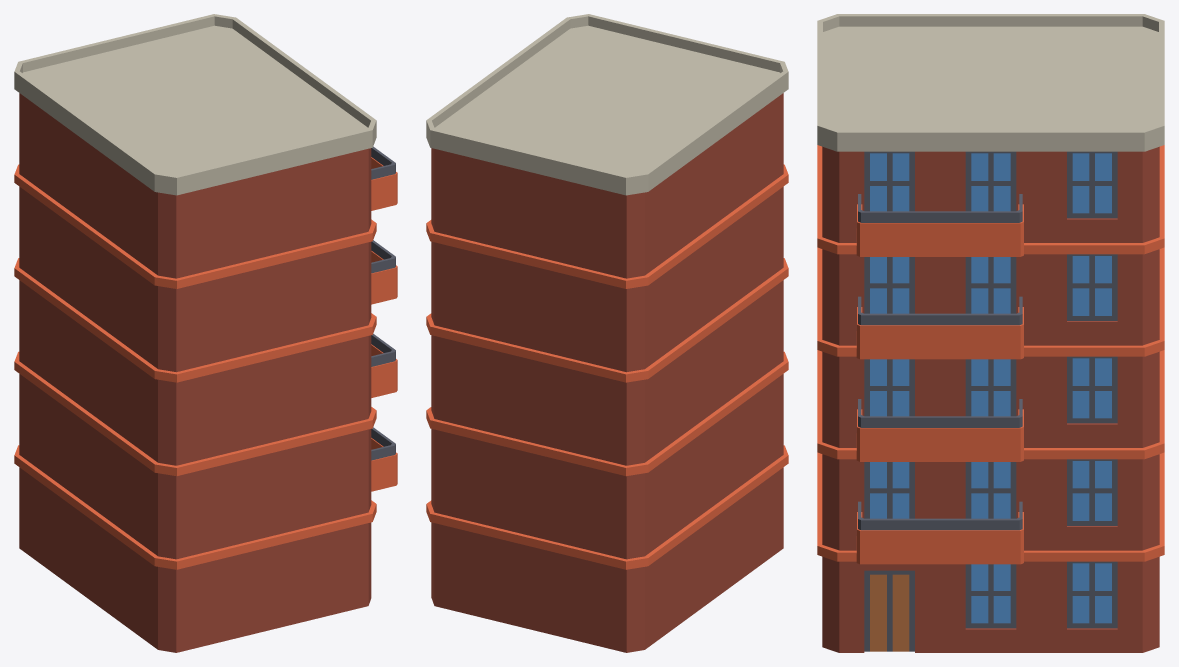
3 views of the same model, side by side, from view 1: azimuth 30°, elevation 25°; view 2: azimuth 150°, elevation 25°; view 3: azimuth 270°, elevation 25° (orthographic). The views are drawn at different scales.
Visible parts, largest first — view 1: Predio 8; view 2: Predio 8; view 3: Predio 8.
Part boxes in pixels (x1,y1,x2,y2): Predio 8: (14,14,397,652); Predio 8: (426,14,788,652); Predio 8: (817,14,1164,652).
Bounding box in the file's own units: 5694 × 10256 × 6180.
